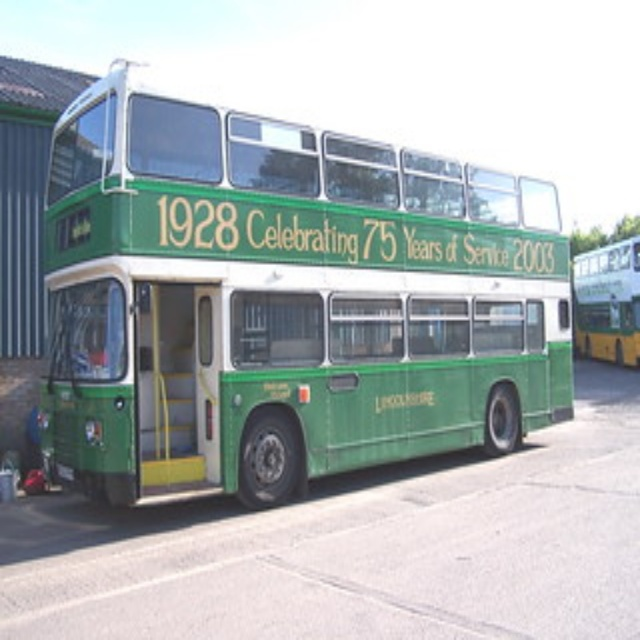Bus: (40, 59, 574, 509)
